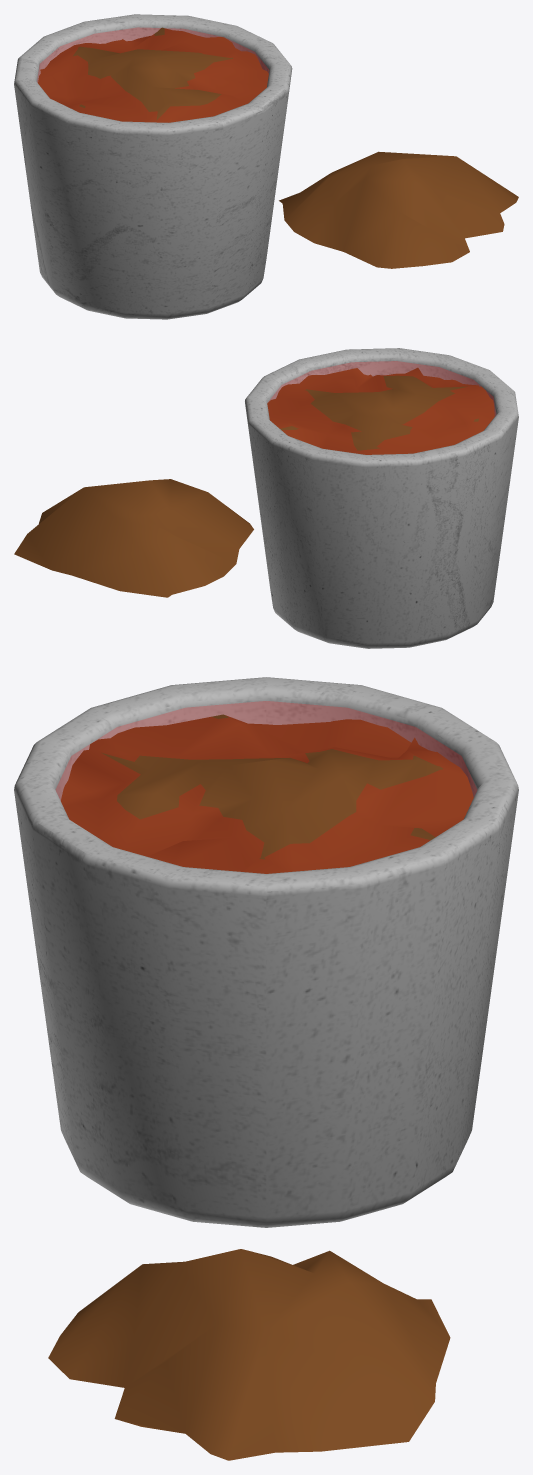
The model's file is Dirt Pot.fbx.
The picture shows the model from 3 angles, top to bottom: view 1: azimuth 30°, elevation 25°; view 2: azimuth 150°, elevation 25°; view 3: azimuth 270°, elevation 25°; orthographic projection. The views are drawn at different scales.
Parts seen in each view (by area): view 1: Pot, Dirt Side, Dirt Full, IN; view 2: Pot, Dirt Side, Dirt Full, IN; view 3: Pot, Dirt Side, Dirt Full, IN.
Part boxes in pixels (x1,y1,x2,y2): Pot: (14, 14, 292, 319); Dirt Side: (279, 151, 518, 268); Dirt Full: (38, 27, 268, 122); IN: (37, 28, 268, 122); Pot: (245, 348, 518, 648); Dirt Side: (14, 479, 253, 597); Dirt Full: (267, 367, 494, 454); IN: (268, 361, 495, 454); Pot: (14, 677, 518, 1227); Dirt Side: (48, 1249, 450, 1460); Dirt Full: (61, 714, 473, 873); IN: (56, 701, 476, 873).
Size of the model in its own units: 0.976 by 0.4248 by 0.4975.
